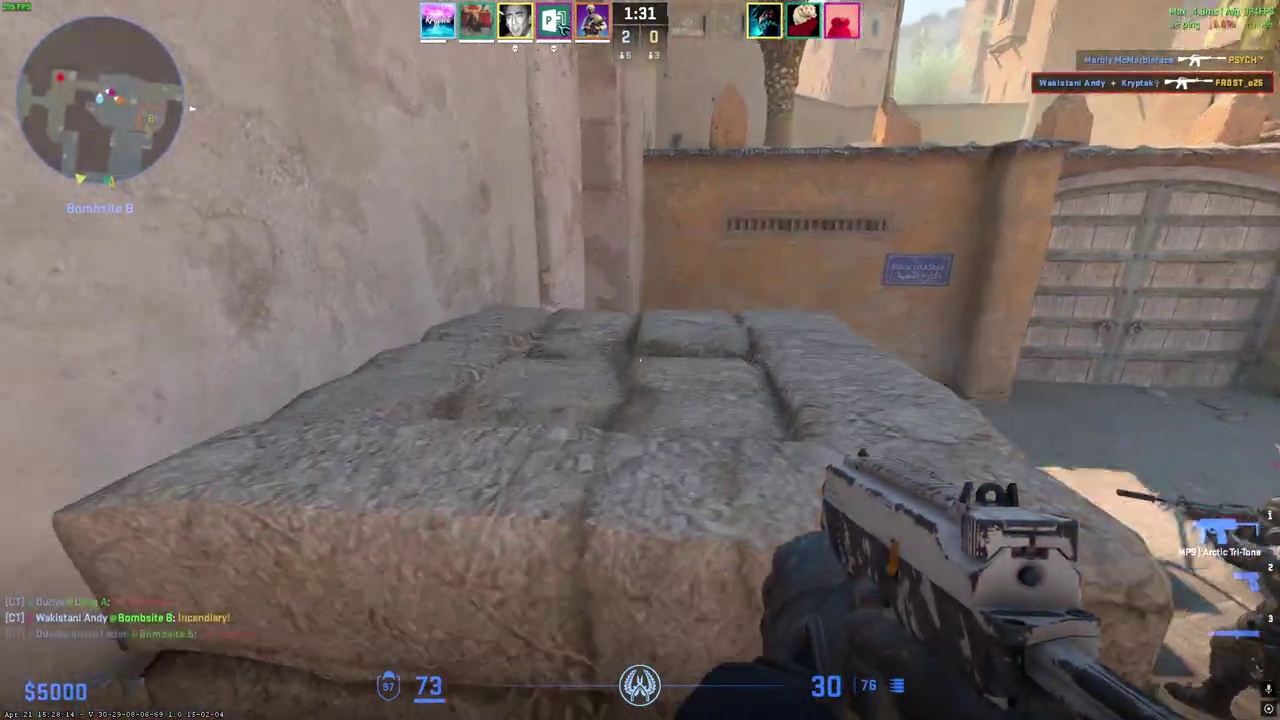CT: (1209, 499, 1280, 720)
